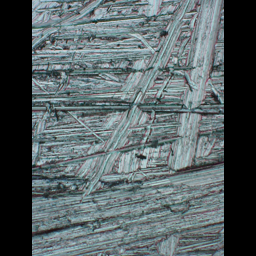d: (33, 152, 222, 255), (153, 0, 224, 254)
